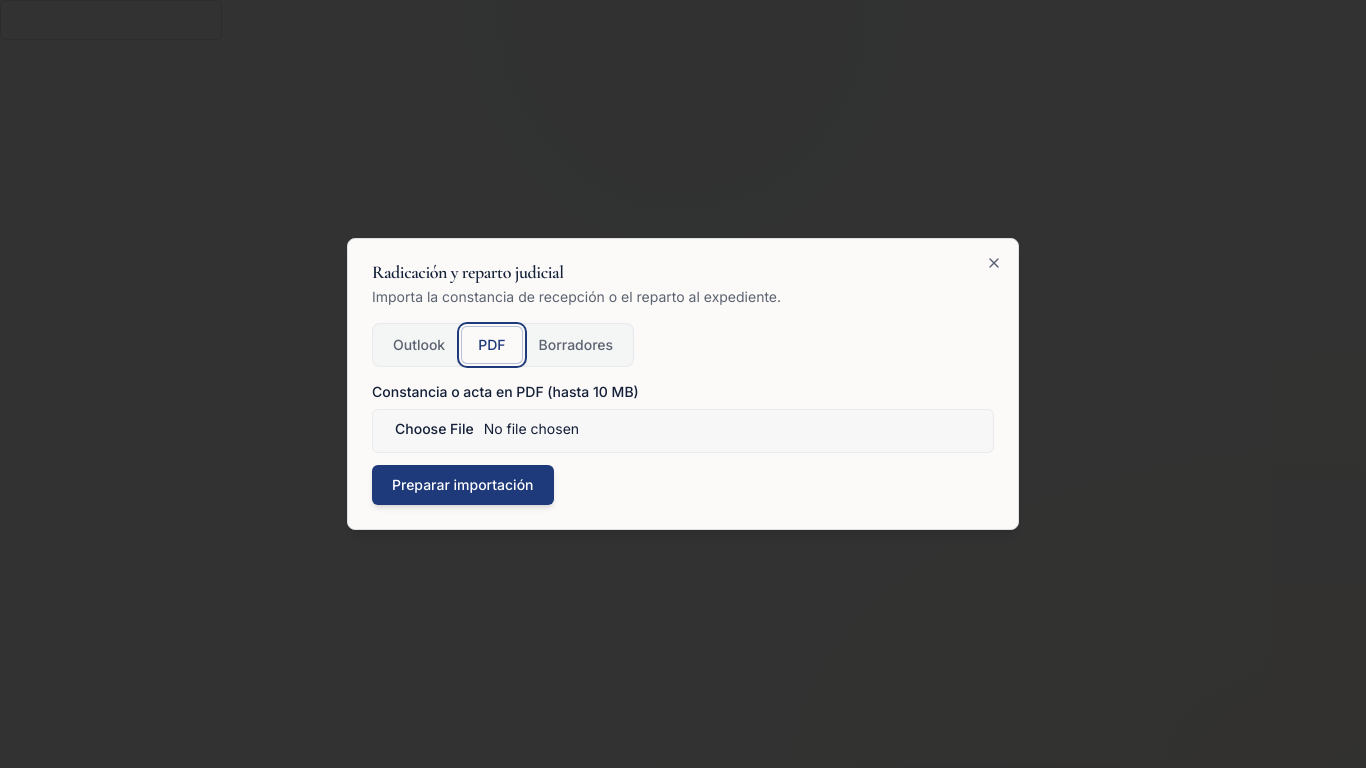
Test case: judicial reparto import from its normal button › keeps receipt and filing reference separate and waits for explicit confirmation
The image size is (1366, 768).
Earlier steps of the test are not shown.
Later steps or results of the test are not shown.
Click the button "Preparar importación".
click(463, 485)  # box [372, 465, 554, 505]
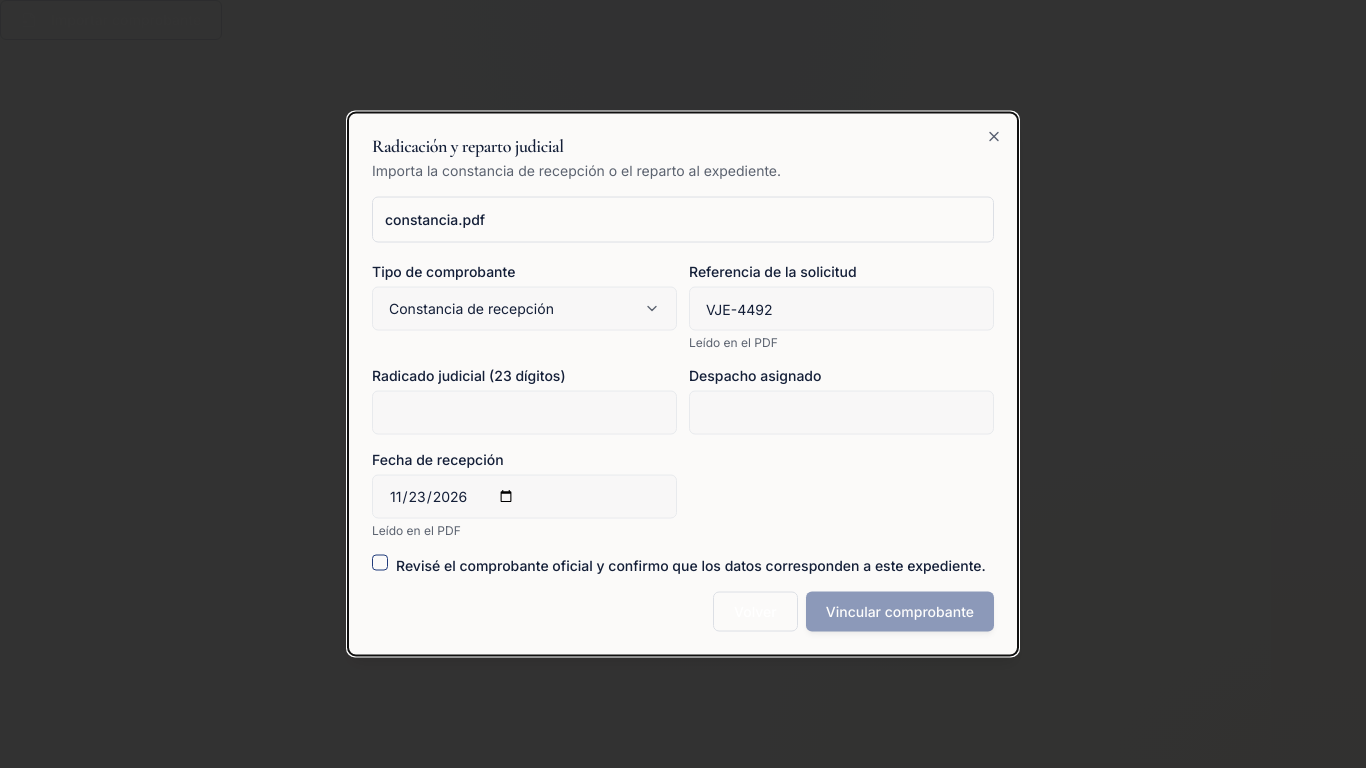
expect the field labelled "Radicado judicial (23 dígitos)" is empty: met, box [372, 390, 677, 434]
expect the button "Vincular comprobante" is disabled: met, box [806, 592, 994, 632]
expect the field labelled "Referencia de la solicitud" holds "VJE-4492": met, box [689, 286, 994, 330]
